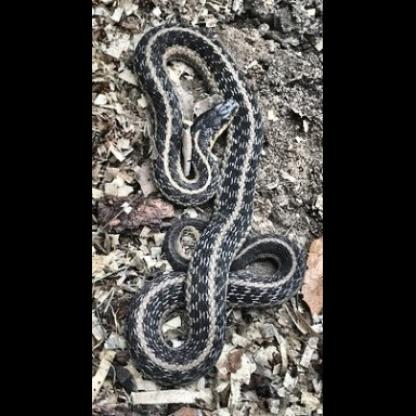Snake: (120, 28, 306, 389)
